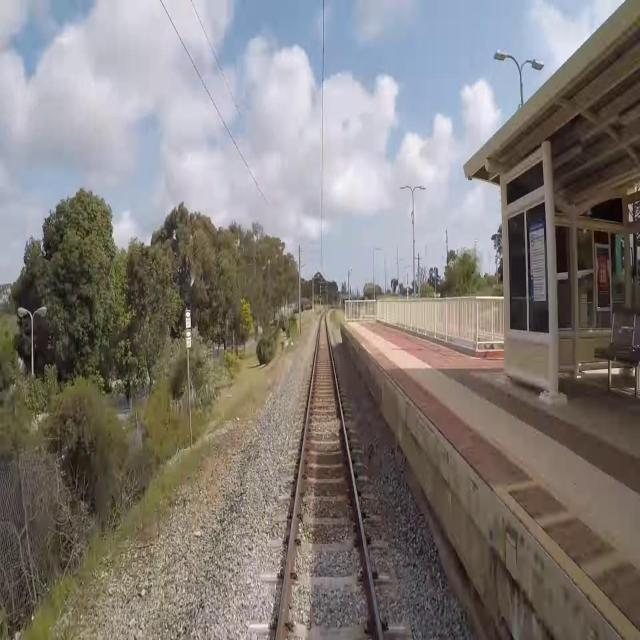rail-track: (279, 313, 378, 639)
